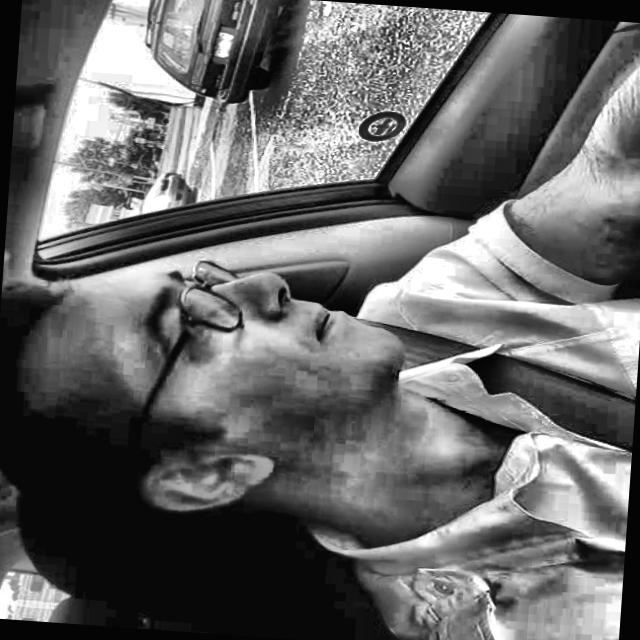closed_mouth: (296, 282, 360, 364)
